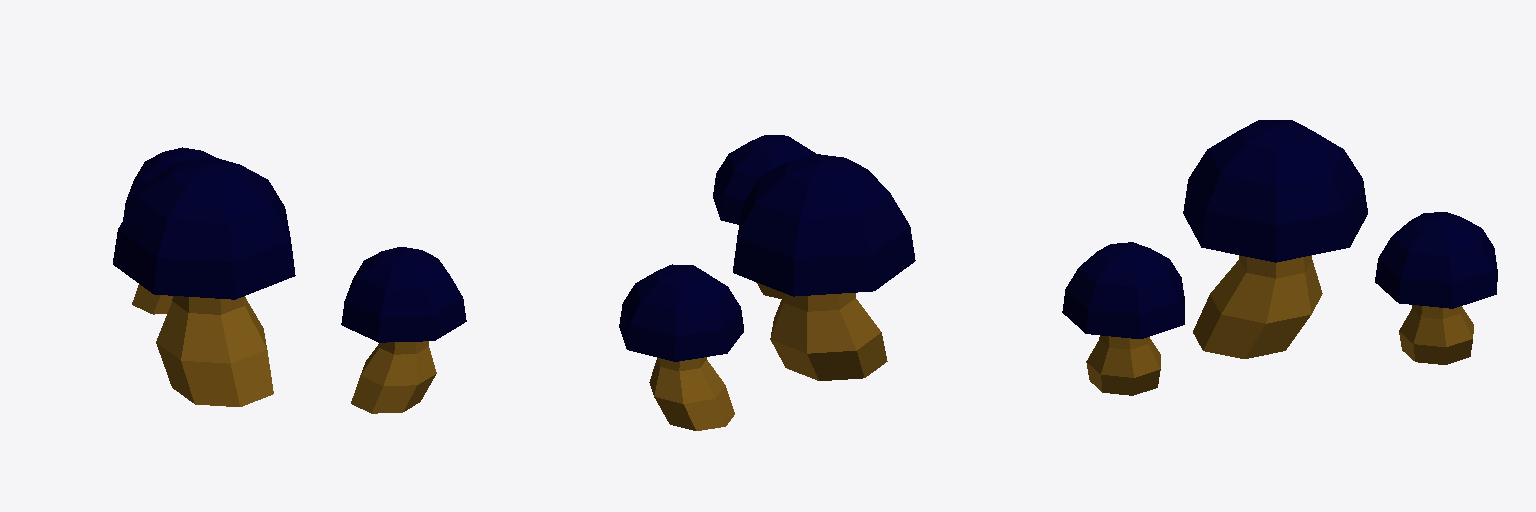
Rendered from mushrooms1.obj.
The picture shows the model from 3 angles: view 1: azimuth 30°, elevation 25°; view 2: azimuth 150°, elevation 25°; view 3: azimuth 270°, elevation 25°; orthographic projection.
Parts seen in each view (by area): view 1: pSphere16; view 2: pSphere16; view 3: pSphere16.
Part boxes in pixels (x1,y1,x2,y2): pSphere16: (113, 147, 466, 413); pSphere16: (619, 135, 915, 430); pSphere16: (1062, 120, 1497, 395).
Size of the model in its own units: 0.9211 by 0.7395 by 1.39.